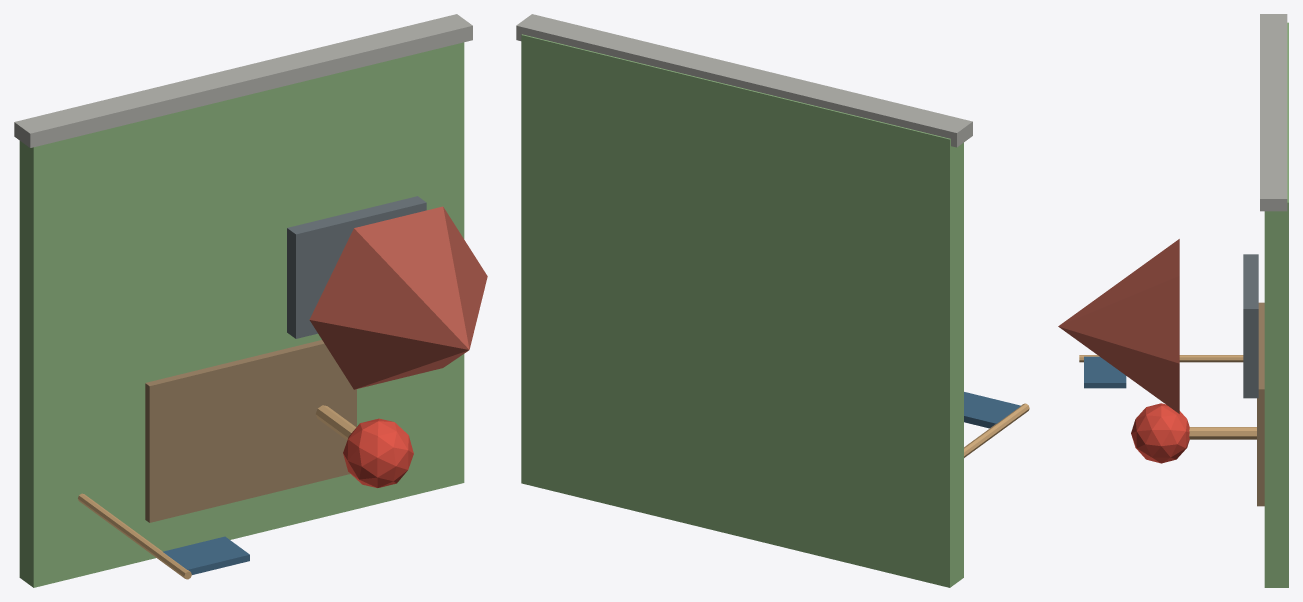
Rendered from 03_DoanhTrai.glb.
3 renders of one model, left to right at view 1: azimuth 30°, elevation 25°; view 2: azimuth 150°, elevation 25°; view 3: azimuth 270°, elevation 25°, orthographic. The views are drawn at different scales.
Parts seen in each view (by area): view 1: base, yard, tent, edge, tentbase, target, flag, pole, post; view 2: base, edge, flag, pole; view 3: tent, base, edge, target, tentbase, yard, flag, post, pole.
Part boxes in pixels (box(x1,y1,x2,y2)): base: box(19, 42, 464, 587); yard: box(145, 340, 356, 522); tent: box(309, 206, 487, 389); edge: box(14, 14, 472, 147); tentbase: box(287, 196, 426, 338); target: box(343, 418, 413, 487); flag: box(163, 536, 249, 574); pole: box(78, 493, 191, 579); post: box(315, 405, 356, 440); base: box(521, 34, 963, 587); edge: box(516, 14, 972, 147); flag: box(964, 392, 1020, 428); pole: box(964, 403, 1029, 457); tent: box(1058, 239, 1179, 413); base: box(1264, 22, 1288, 587); edge: box(1260, 14, 1287, 211); target: box(1131, 403, 1189, 463); tentbase: box(1243, 254, 1258, 398); yard: box(1257, 302, 1264, 506); flag: box(1084, 356, 1126, 388); post: box(1189, 427, 1256, 439); pole: box(1079, 355, 1243, 362).
Bounding box in the file's own units: 2.88 × 2.85 × 1.52.
